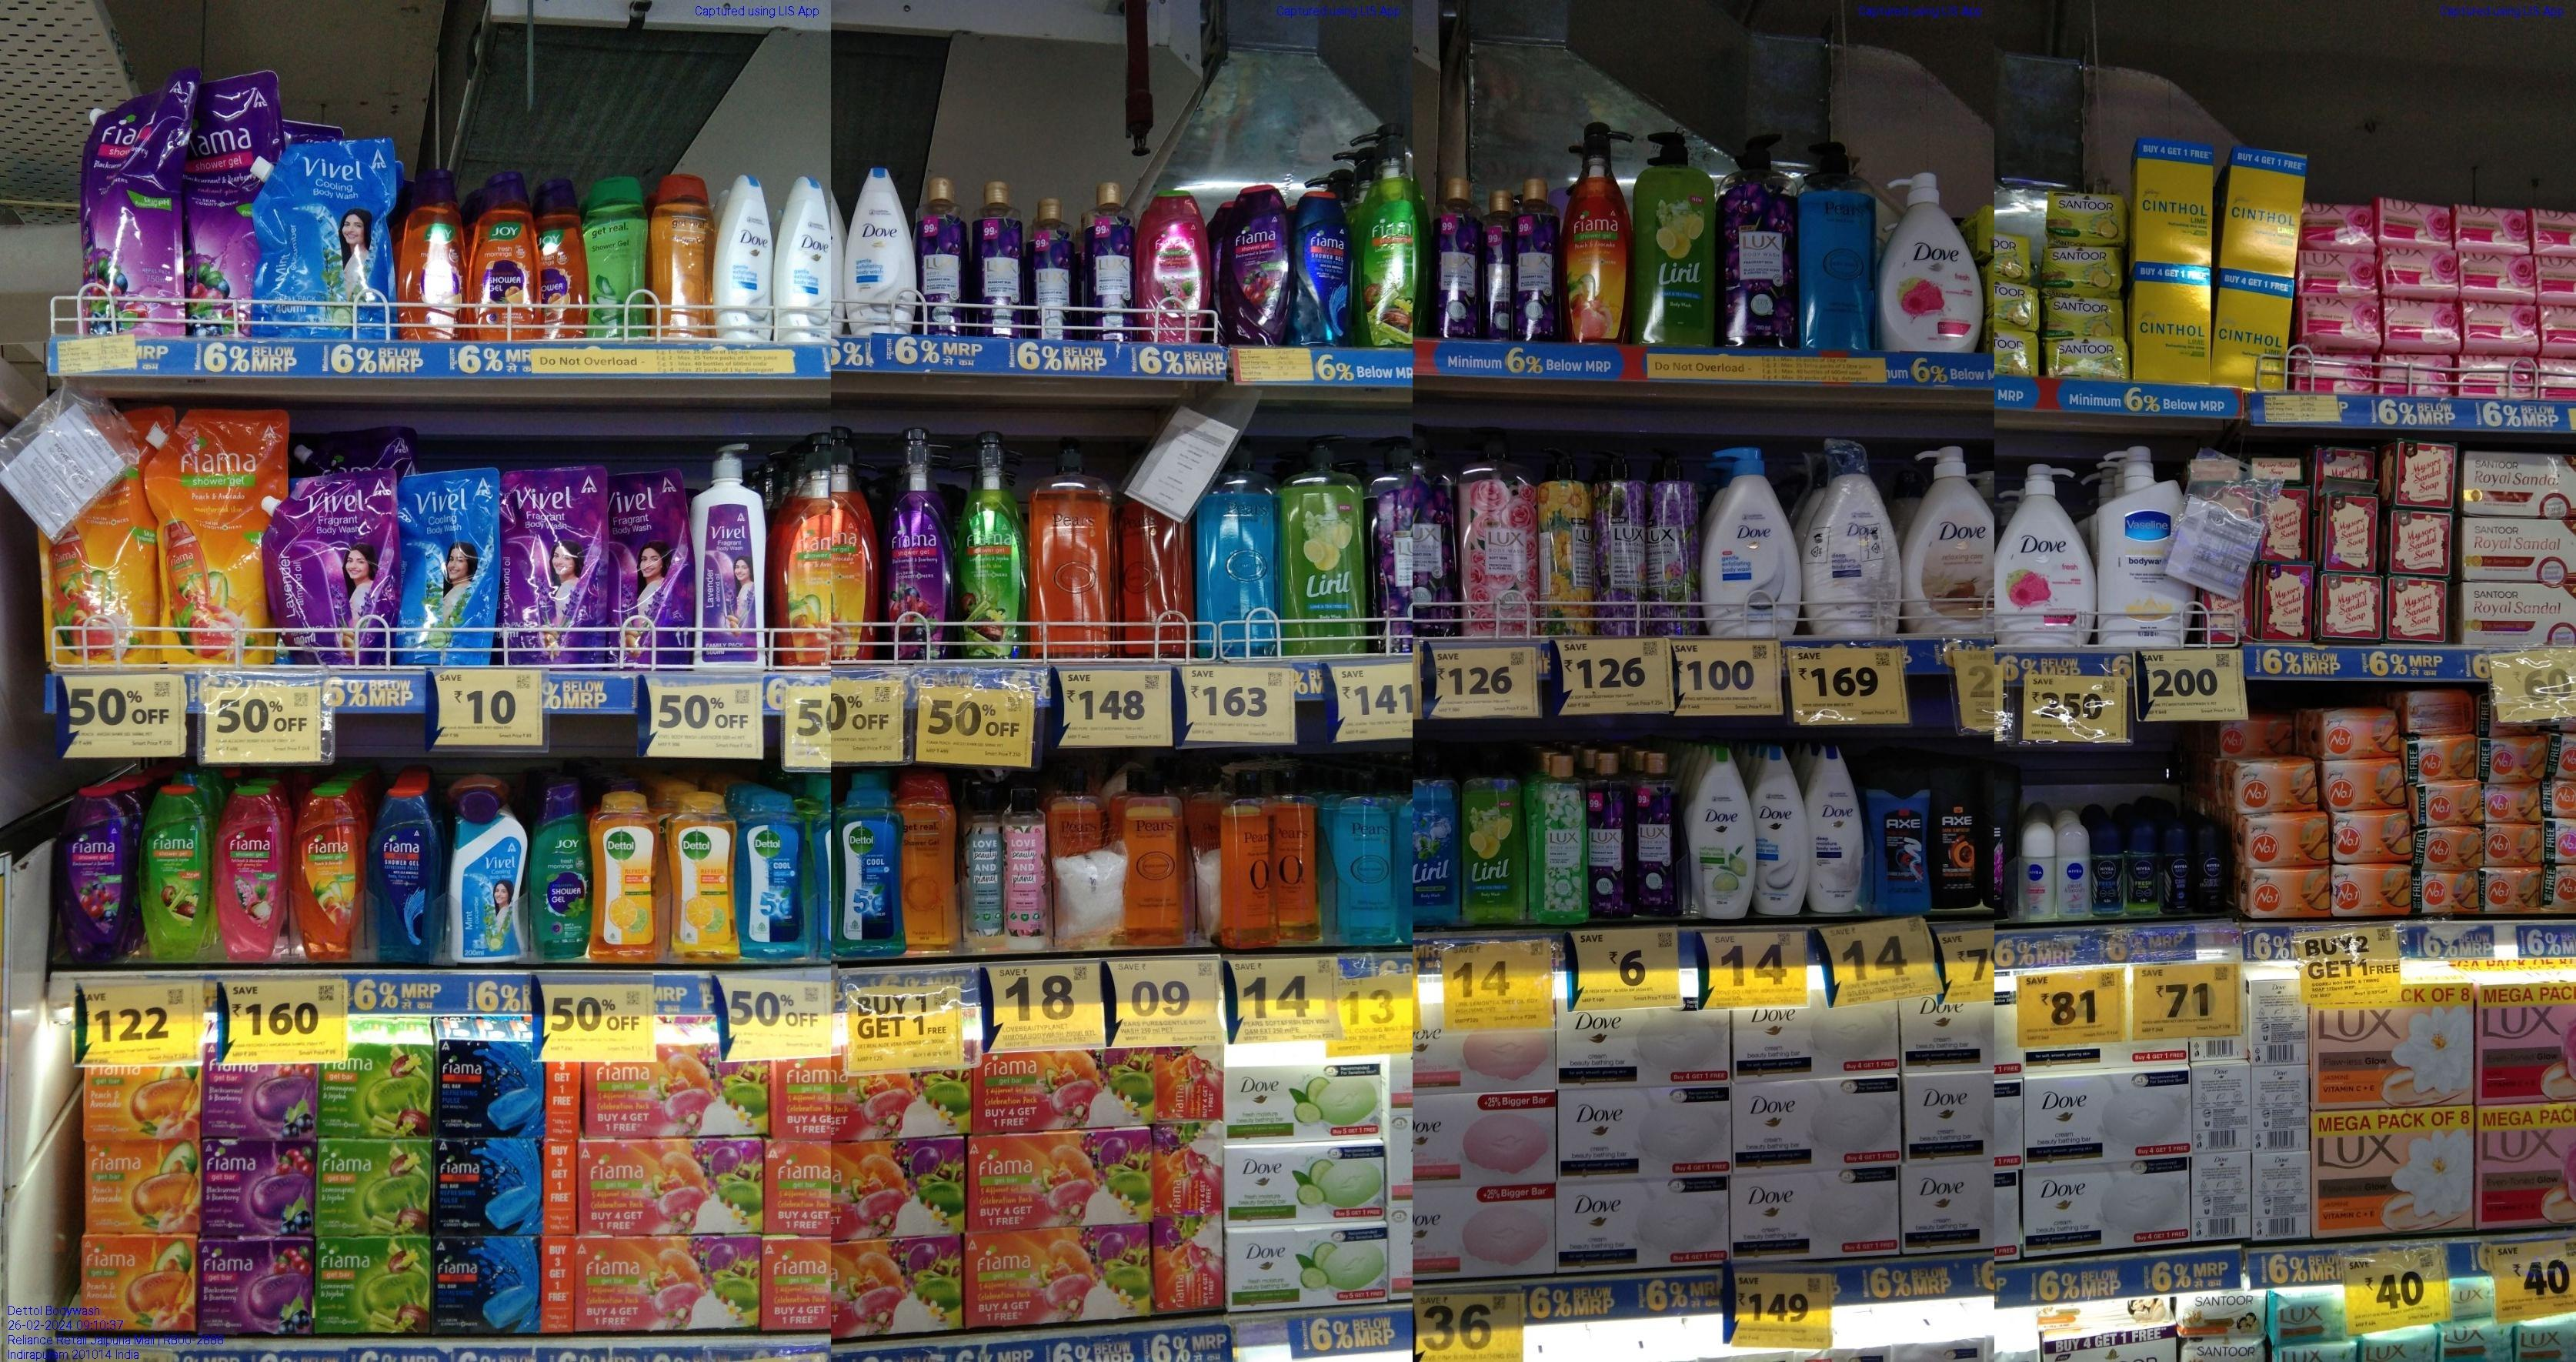Dettol_Bodywash_Cool: (738, 793, 808, 956), (838, 786, 900, 953)
Dettol_Bodywash_Refresh: (673, 796, 733, 965), (596, 793, 654, 965)
Dove_Deep_Moisture_Body_Wash_250ML: (1811, 745, 1866, 912)
Dove_Gentle_Exfoliating_Body_Wash_250ML: (847, 167, 918, 336), (779, 177, 831, 343), (1760, 742, 1809, 917), (724, 174, 772, 341)
Dove_Refreshing_Body_Wash_250ML: (1688, 745, 1757, 919)
Fiama_Shower_Gel_Lemongrass_and_Jojoba_250ML: (145, 782, 215, 965)
Fiama_Shower_Gel_Patchouli_and_Macadamia_250ML: (218, 779, 291, 960), (1138, 189, 1206, 341)
Fiama_Shower_Gel_Peach_and_Avocado_250ML: (291, 789, 356, 965)
Get_Real_Shower_Gel_Moisturising_Glycerin_300ML: (653, 176, 717, 338), (903, 774, 961, 951)
Joy_Shower_Gel_Mandarin_and_Lemongrass_250ML: (470, 170, 540, 343), (405, 165, 465, 341), (545, 179, 589, 341)
Joy_Shower_Gel_Mint_and_Eucalyptus_250ML: (528, 788, 593, 960)
Liril_Cooling_Mint_Body_Wash_250ML: (1412, 759, 1457, 926)
Liril_Lime_and_Tea_Tree_Oil_Body_Wash_250ML: (1460, 753, 1527, 926)
Lux_Black_Orchid_Scent_and_Juniper_Oil_Body_Wash_245ML: (922, 177, 971, 336), (1087, 181, 1135, 341), (1516, 179, 1562, 344), (975, 182, 1022, 338), (1634, 750, 1676, 921), (1588, 755, 1630, 924), (1438, 176, 1482, 336), (1027, 196, 1072, 339), (1484, 191, 1515, 341)
Lux_Body_Wash_Skin_Detox_Freesia_Scent_and_Alove_Vera_245ML: (1538, 755, 1586, 922)
Pears_Pure_Glycerin_and_Mint_Extracts_Body_Wash_250ML: (1329, 770, 1395, 941)
